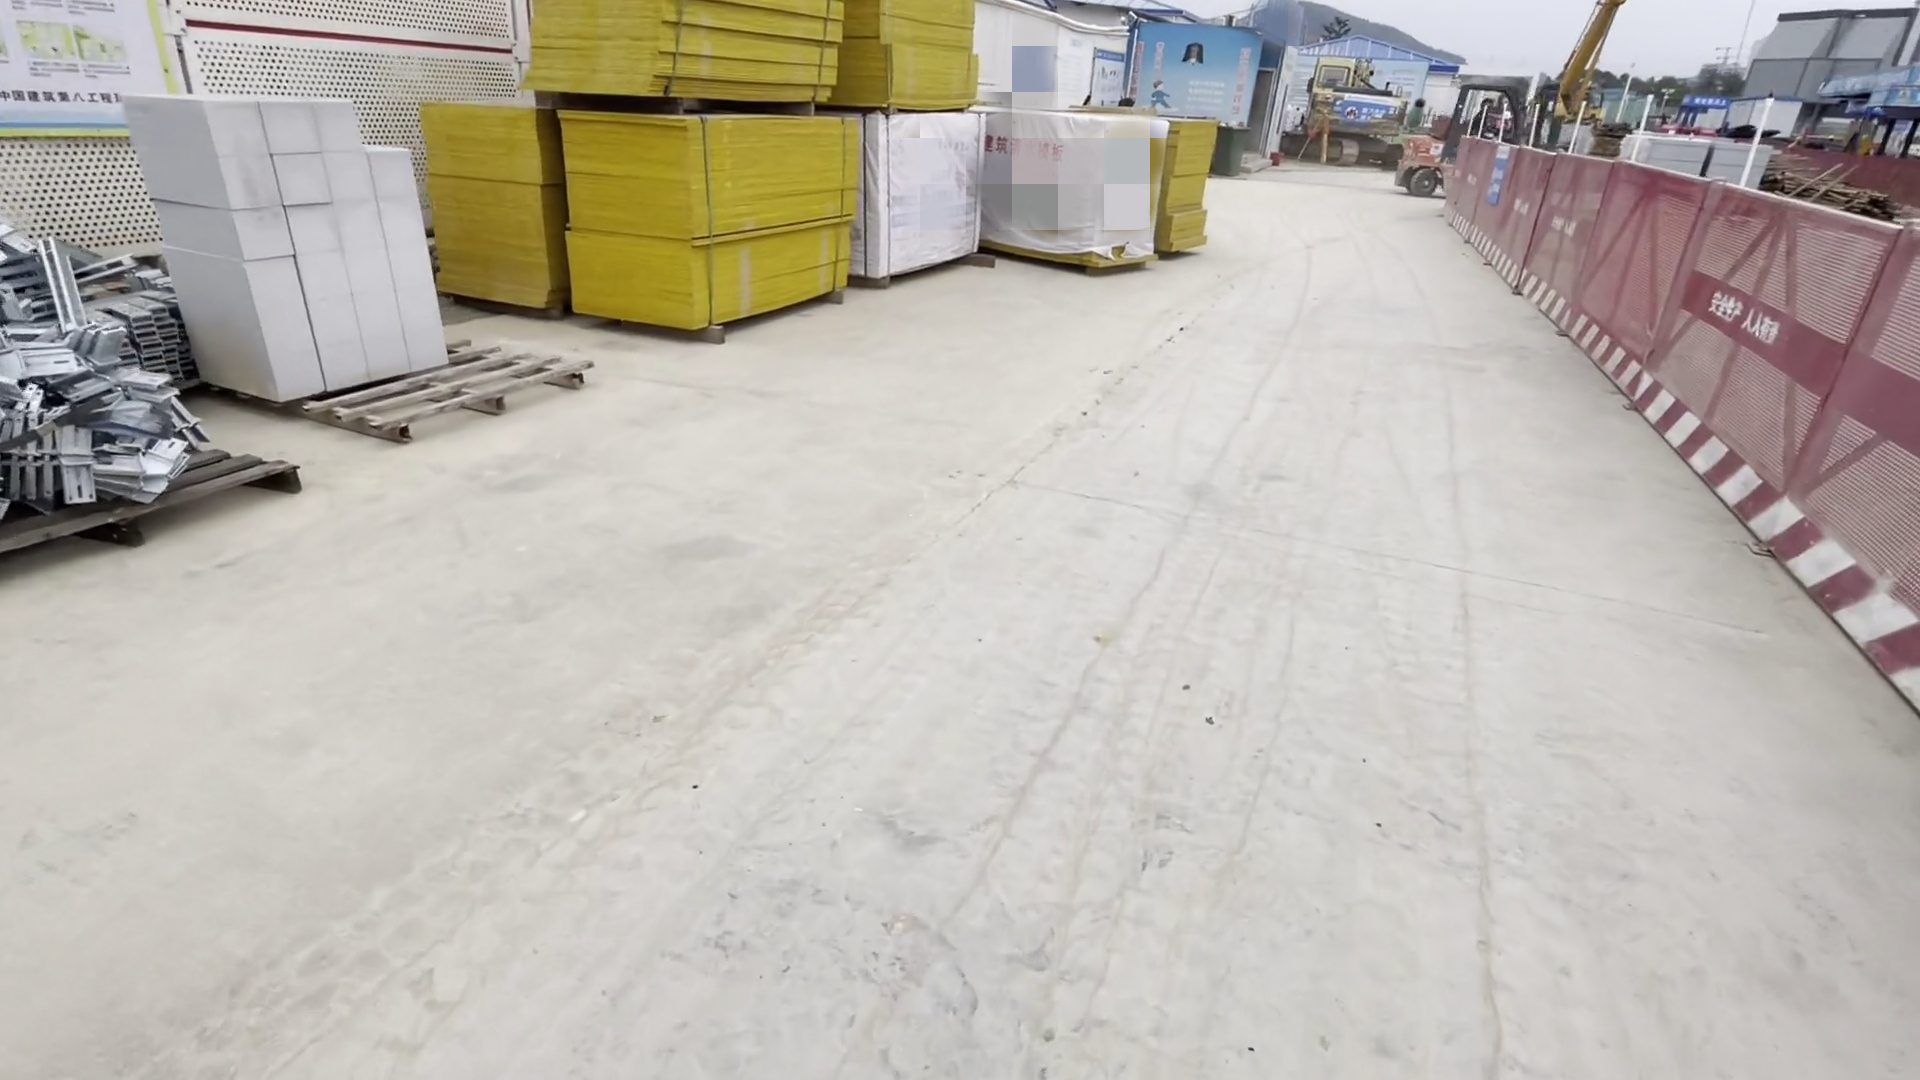board: (535, 7, 862, 351)
brick: (121, 94, 465, 400)
fence: (1429, 125, 1908, 785)
